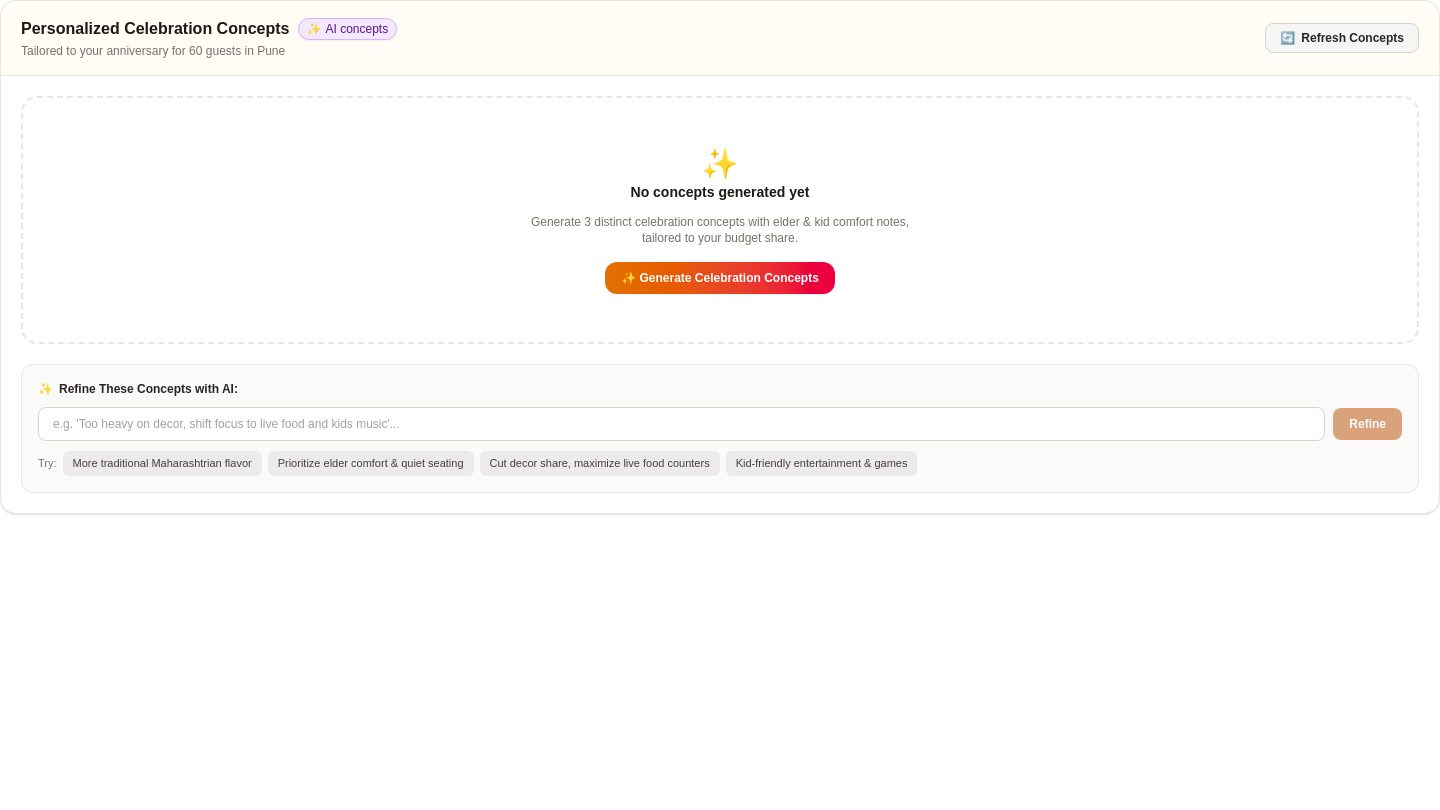
it: IdeasTab Component › displays error and allows retry when /api/ideas fails
This screenshot has width=1440, height=810.
Click the button "✨ Generate Celebration Concepts": [720, 278] box [605, 262, 835, 294]
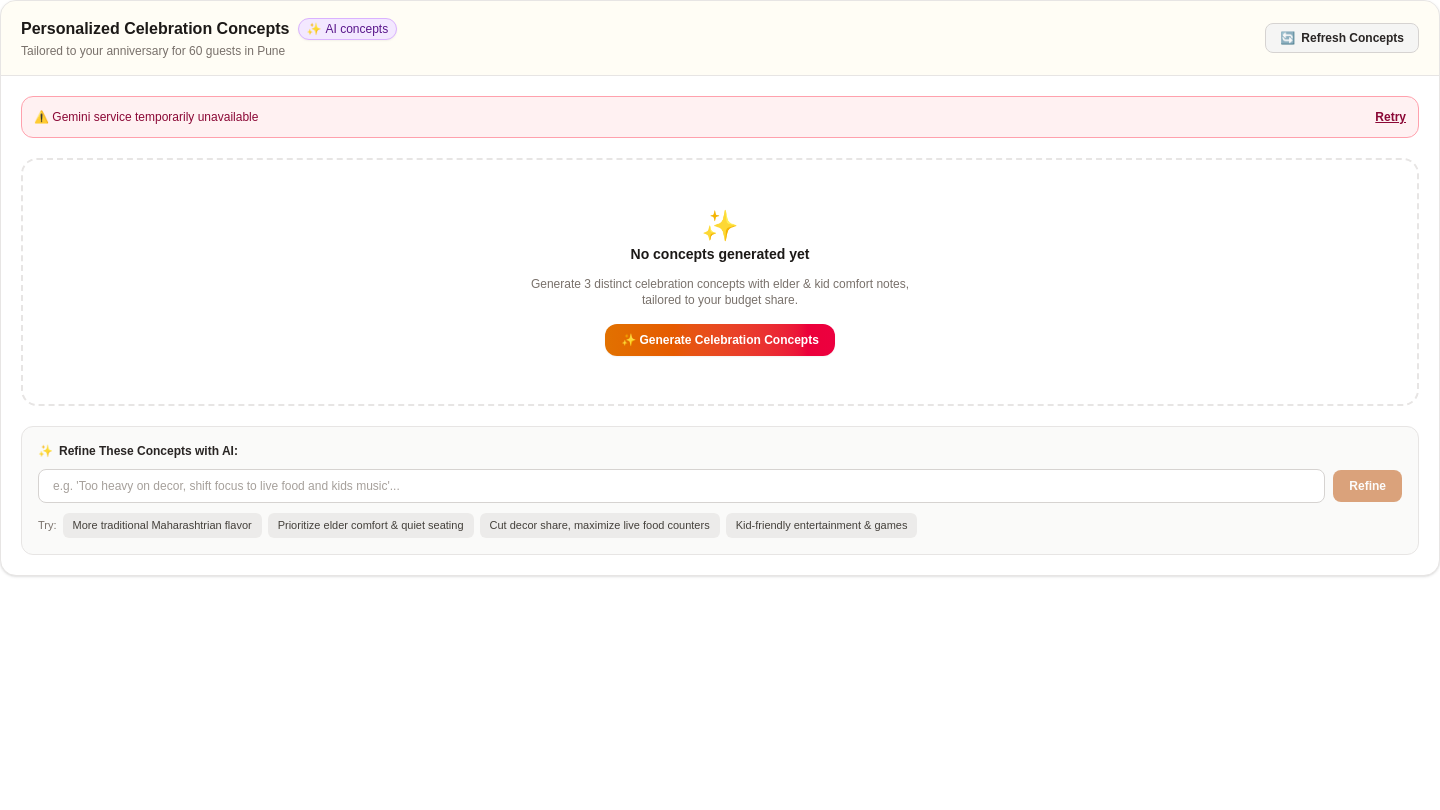
Check: the message "⚠️ Gemini service temporarily unavailable Retry" is shown, box [21, 96, 1419, 138]
Check: the text "⚠️ Gemini service temporarily unavailable" is shown, box [34, 109, 258, 125]
Check: the button "Retry" is shown, box [1375, 109, 1406, 125]
